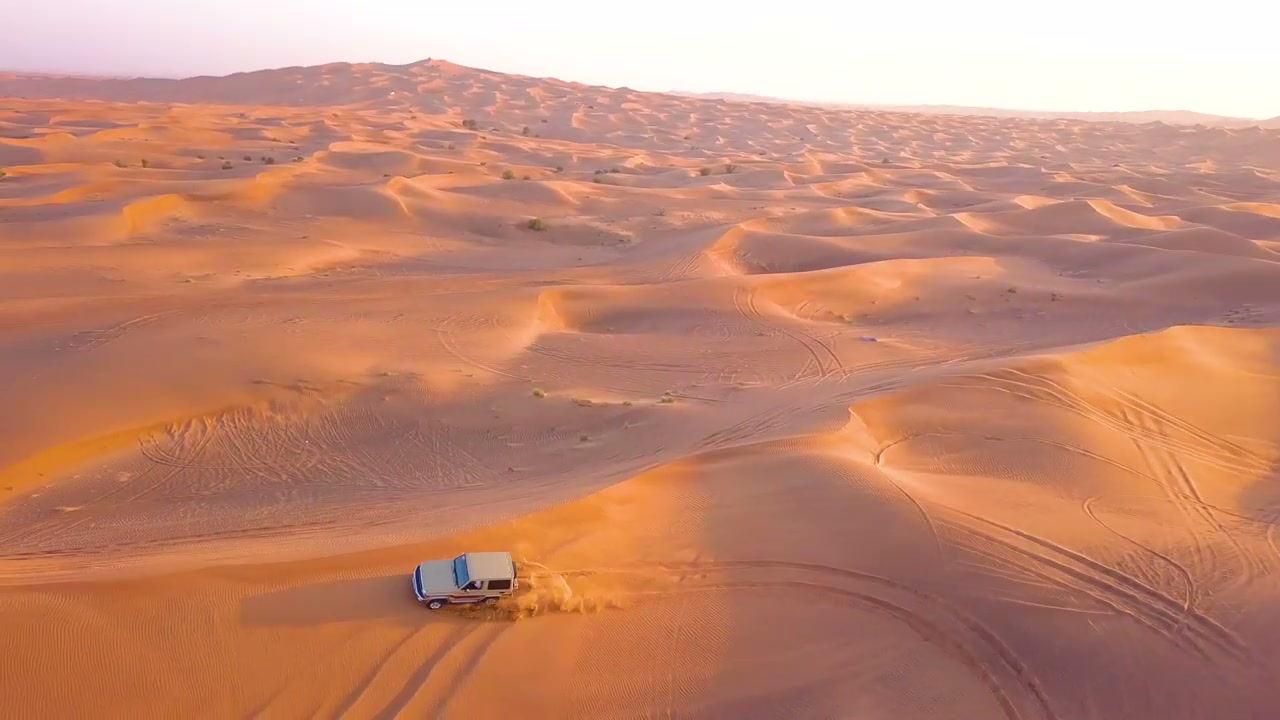vehicle_track: (548, 560, 1057, 719), (666, 580, 1023, 719), (947, 508, 1251, 662), (945, 368, 1270, 473), (1132, 437, 1266, 575), (1082, 496, 1198, 617), (335, 624, 479, 717), (733, 287, 826, 386), (746, 289, 845, 378), (435, 315, 530, 380), (71, 310, 178, 352)
